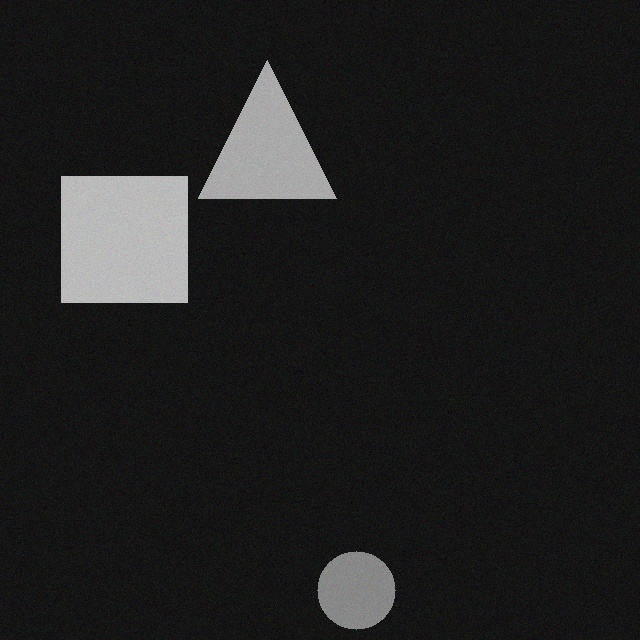circle: (325, 538, 403, 616)
square: (69, 163, 195, 289)
triangle: (206, 47, 344, 185)
